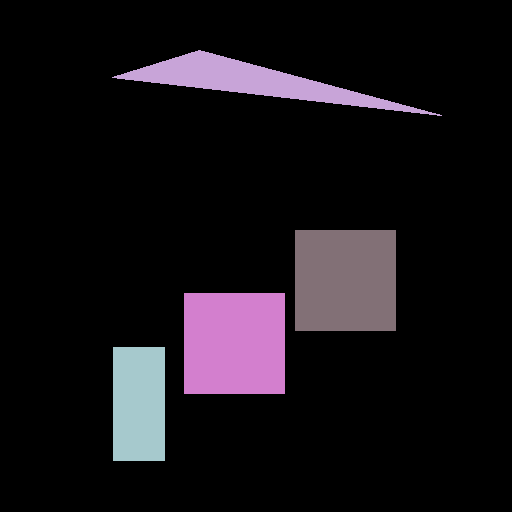rectangle: (113, 347, 164, 460)
square: (184, 293, 284, 393), (295, 230, 395, 330)
triangle: (112, 50, 441, 115)
